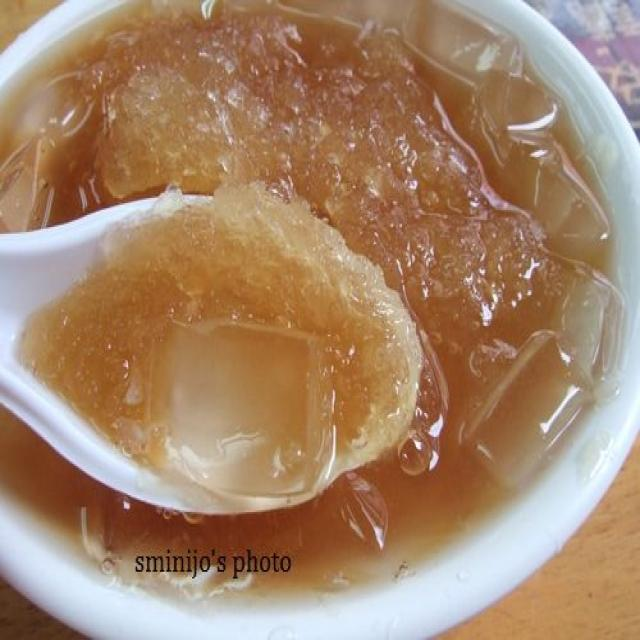蛋糕甜品: (4, 7, 612, 599)
